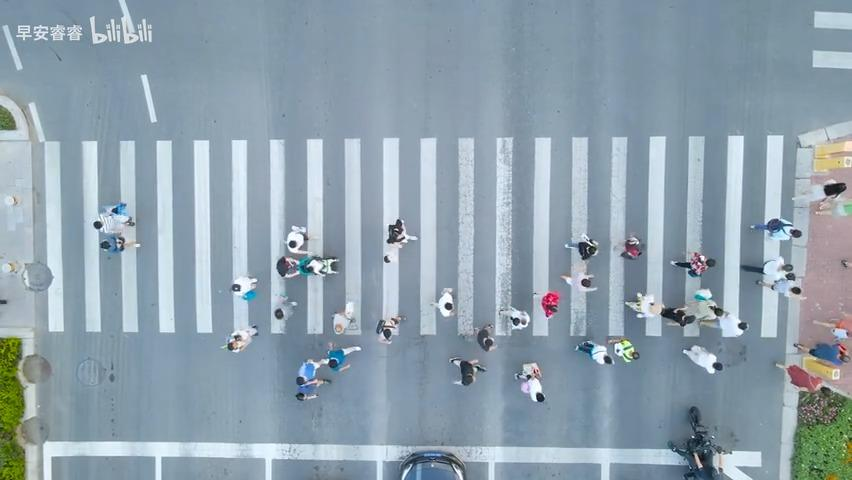Civilian: (666, 405, 727, 479), (93, 202, 135, 252), (617, 283, 670, 322), (294, 357, 331, 400), (774, 361, 822, 393), (276, 254, 339, 278), (792, 341, 849, 366), (657, 301, 698, 333), (815, 180, 851, 216), (514, 362, 545, 402), (749, 217, 802, 240), (687, 291, 726, 322), (682, 344, 722, 374), (323, 341, 361, 372), (670, 251, 715, 277), (448, 356, 486, 386), (560, 262, 597, 292), (220, 324, 258, 353), (719, 311, 758, 339), (282, 224, 317, 255), (812, 316, 851, 342), (574, 340, 614, 365), (760, 256, 793, 286), (375, 314, 406, 344), (564, 233, 598, 260), (386, 218, 418, 244), (429, 287, 456, 317), (498, 305, 530, 329), (610, 338, 639, 363), (473, 323, 498, 351), (229, 275, 257, 300), (273, 292, 297, 320), (332, 309, 355, 334), (619, 235, 642, 259), (540, 291, 559, 318)
